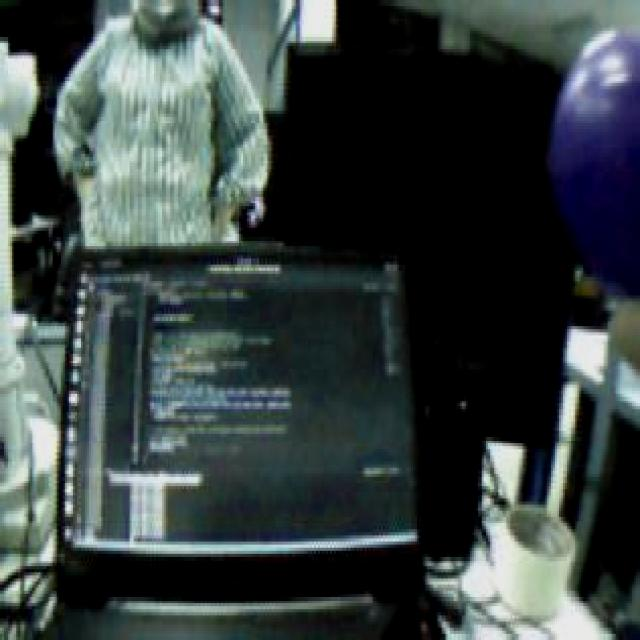BallPurple: (546, 30, 640, 298)
